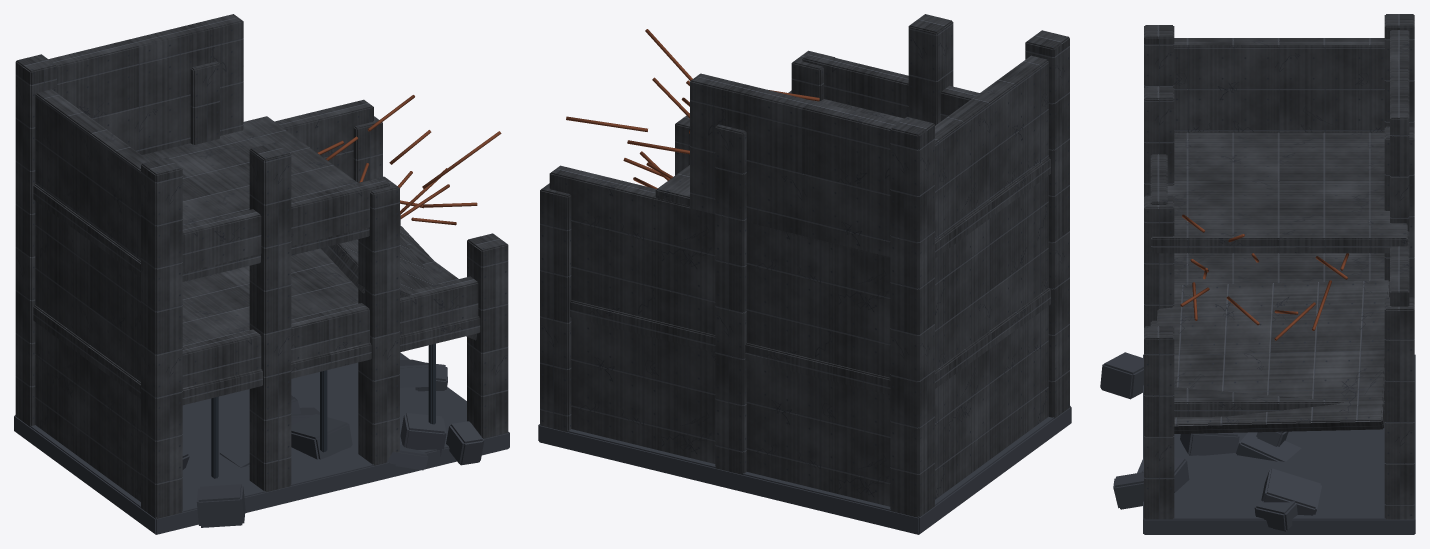
File: building_ruin_a.glb
The picture shows the model from 3 angles, left to right: view 1: azimuth 30°, elevation 25°; view 2: azimuth 150°, elevation 25°; view 3: azimuth 270°, elevation 25°; orthographic projection. The views are drawn at different scales.
Visible parts, largest first — view 1: LeftWall, Floor_0, BackWallTop, Pillar_0, Floor_1, Pillar_1, Floor_2, Pillar_2, FrontParapet_1, Pillar_4, FrontParapet_2, Pillar_3 (+13 smaller); view 2: BackWallLow, LeftWall, BackWallTop, Pillar_4, Floor_0, Pillar_5, Pillar_0, Pillar_6, Floor_1, FrontParapet_2, Pillar_1, Floor_2 (+2 smaller); view 3: CollapsedSlab, Floor_2, LeftWall, Floor_0, Floor_1, Pillar_6, Pillar_3, BackWallTop, Pillar_2, Pillar_1, Pillar_0, Rubble_4 (+10 smaller).
Part boxes in pixels (<box>): LeftWall: <box>35,89,149,501</box>; Floor_0: <box>14,352,509,534</box>; BackWallTop: <box>48,14,243,154</box>; Pillar_0: <box>141,157,182,518</box>; Floor_1: <box>33,236,480,405</box>; Pillar_1: <box>249,142,291,492</box>; Floor_2: <box>33,116,400,281</box>; Pillar_2: <box>358,176,399,465</box>; FrontParapet_1: <box>182,276,478,387</box>; Pillar_4: <box>15,54,56,426</box>; FrontParapet_2: <box>182,177,389,272</box>; Pillar_3: <box>467,233,508,439</box>; BackWallLow: <box>549,165,890,506</box>; LeftWall: <box>935,55,1048,499</box>; BackWallTop: <box>690,73,899,257</box>; Pillar_4: <box>890,117,934,517</box>; Floor_0: <box>538,406,1071,534</box>; Pillar_5: <box>715,124,746,474</box>; Pillar_0: <box>1025,30,1069,418</box>; Pillar_6: <box>540,183,571,431</box>; Floor_1: <box>570,288,1050,395</box>; FrontParapet_2: <box>802,52,979,121</box>; Pillar_1: <box>908,14,953,125</box>; Floor_2: <box>655,90,1050,258</box>; CollapsedSlab: <box>1156,280,1389,433</box>; Floor_2: <box>1151,132,1407,253</box>; LeftWall: <box>1174,38,1384,132</box>; Floor_0: <box>1143,354,1415,534</box>; Floor_1: <box>1174,253,1384,417</box>; Pillar_6: <box>1384,297,1414,519</box>; Pillar_3: <box>1144,326,1174,519</box>; BackWallTop: <box>1390,30,1409,231</box>; Pillar_2: <box>1144,195,1174,327</box>; Pillar_1: <box>1144,86,1174,196</box>; Pillar_0: <box>1144,25,1174,87</box>; Rubble_4: <box>1261,468,1321,515</box>.
Bounding box in the file's own units: 10.25 × 10.16 × 7.87.
Materials: 4 (1 with a texture image).
